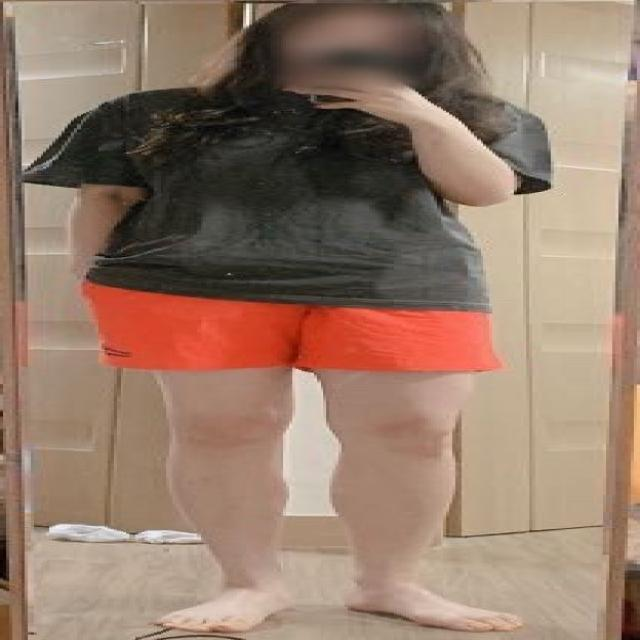shortpants: (92, 278, 495, 376)
shortsleeve: (25, 81, 543, 315)
